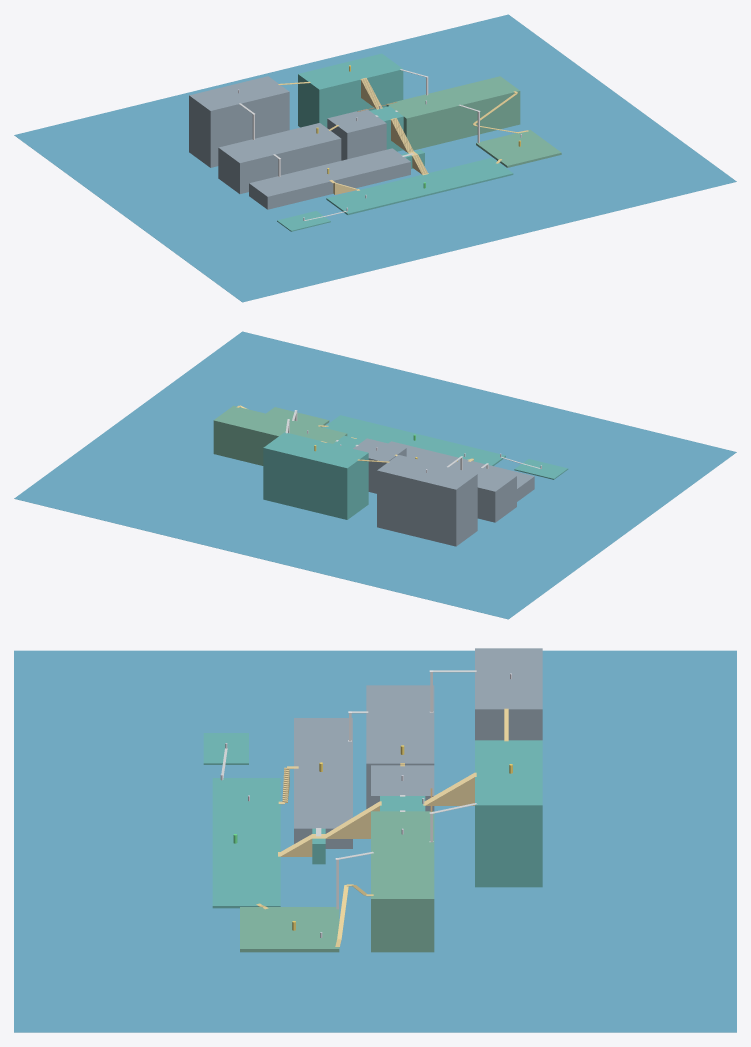
File: greybox.glb
3 renders of one model, top to bottom at view 1: azimuth 30°, elevation 25°; view 2: azimuth 150°, elevation 25°; view 3: azimuth 270°, elevation 25°, orthographic. The views are drawn at different scales.
Parts seen in each view (by area): view 1: SEA, ZONE_stele, ZONE_warhall, ZONE_forge, ZONE_hall, ZONE_market, ZONE_harbor, ZONE_admiralty, ZONE_east-haven, ZONE_cove, ZONE_steps-l2; view 2: SEA, ZONE_stele, ZONE_hall, ZONE_warhall, ZONE_harbor, ZONE_forge, ZONE_admiralty, ZONE_market, ZONE_cove, ZONE_east-haven; view 3: SEA, ZONE_hall, ZONE_warhall, ZONE_harbor, ZONE_market, ZONE_stele, ZONE_forge, ZONE_east-haven, ZONE_admiralty, ZONE_cove, LINK_steps-2, LINK_steps-3 (+1 smaller).
Part boxes in pixels (<box>): SEA: <box>14,14,736,302</box>; ZONE_stele: <box>189,76,289,167</box>; ZONE_warhall: <box>386,76,520,151</box>; ZONE_forge: <box>218,123,341,193</box>; ZONE_hall: <box>298,53,403,127</box>; ZONE_market: <box>249,148,410,209</box>; ZONE_harbor: <box>326,157,513,215</box>; ZONE_admiralty: <box>327,109,386,160</box>; ZONE_east-haven: <box>476,129,561,167</box>; ZONE_cove: <box>277,211,330,231</box>; ZONE_steps-l2: <box>370,106,403,151</box>; SEA: <box>14,331,736,619</box>; ZONE_stele: <box>377,455,477,546</box>; ZONE_hall: <box>263,432,368,519</box>; ZONE_warhall: <box>213,405,347,465</box>; ZONE_harbor: <box>323,415,505,465</box>; ZONE_forge: <box>408,451,516,522</box>; ZONE_admiralty: <box>353,438,406,493</box>; ZONE_market: <box>388,441,534,501</box>; ZONE_cove: <box>514,459,568,479</box>; ZONE_east-haven: <box>266,407,329,427</box>; SEA: <box>14,650,736,1032</box>; ZONE_hall: <box>475,740,542,887</box>; ZONE_warhall: <box>371,811,434,952</box>; ZONE_harbor: <box>212,778,280,908</box>; ZONE_market: <box>294,718,352,848</box>; ZONE_stele: <box>475,648,542,740</box>; ZONE_forge: <box>366,685,434,809</box>; ZONE_east-haven: <box>240,907,339,952</box>; ZONE_admiralty: <box>371,765,434,811</box>; ZONE_cove: <box>203,733,248,764</box>; LINK_steps-2: <box>318,801,381,838</box>; LINK_steps-3: <box>423,772,476,805</box>.
Size of the model in its own units: 1000 by 116 by 800.
